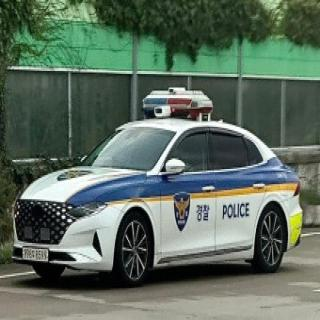Police_car: (9, 86, 304, 284)
